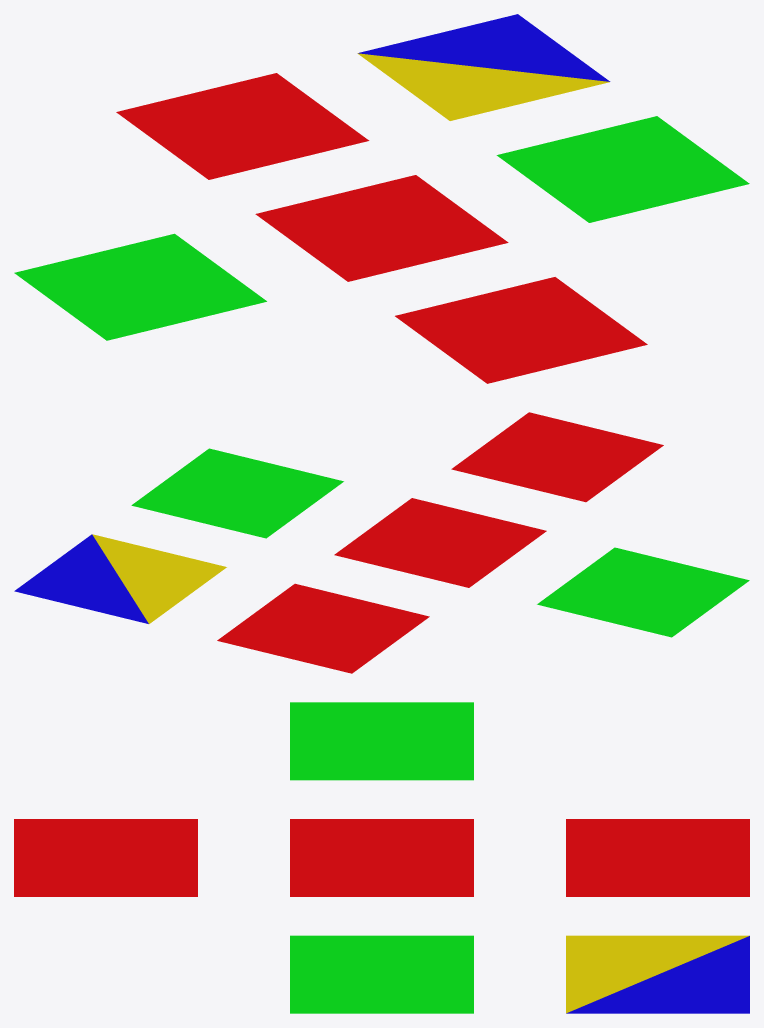
Rendered from multiple-planes-with-and-without-instances.gltf.
The picture shows the model from 3 angles, top to bottom: view 1: azimuth 30°, elevation 25°; view 2: azimuth 150°, elevation 25°; view 3: azimuth 270°, elevation 25°; orthographic projection. The views are drawn at different scales.
Visible parts, largest first — view 1: Instance0, Instance2, MultiMaterial, Green1, Instance1, Green2; view 2: Instance0, Instance2, Green2, Instance1, Green1, MultiMaterial; view 3: Green1, Green2, MultiMaterial, Instance0, Instance1, Instance2.
Boxes of the visible parts, x1,y1,x2,y2 form: Instance0: (255, 175, 508, 281); Instance2: (395, 277, 647, 383); MultiMaterial: (357, 14, 610, 120); Green1: (496, 116, 749, 222); Instance1: (116, 73, 369, 179); Green2: (14, 233, 266, 340); Instance0: (334, 498, 546, 587); Instance2: (451, 412, 663, 502); Green2: (537, 547, 749, 637); Instance1: (217, 583, 429, 673); Green1: (131, 448, 343, 538); MultiMaterial: (14, 534, 226, 623); Green1: (290, 935, 473, 1013); Green2: (290, 702, 473, 780); MultiMaterial: (566, 935, 749, 1013); Instance0: (290, 819, 473, 896); Instance1: (566, 819, 749, 896); Instance2: (14, 819, 197, 896).
Bounding box in the file's own units: 8 × 0 × 8.
